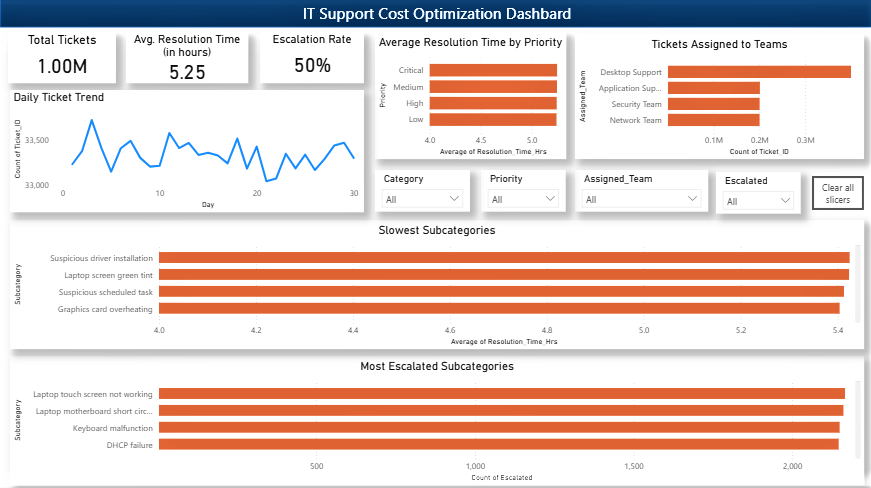

The page's visual inventory and layout, read from the dashboard file:
{"tool":"powerbi","page":{"name":"Page 1","canvas":[1280,720],"ordinal":0},"visuals":[{"type":"card","title":"Total Number Of Tickets","fields":{"Values":["CountNonNull(helpdesk.Ticket_ID)"]},"box":[0,43.3,160,73.3],"z":0},{"type":"card","fields":{"Values":["Avg(helpdesk.Resolution_Time_Hrs)"]},"box":[160,43.3,223.3,73.3],"z":1000},{"type":"card","fields":{"Values":["helpdesk.Escalation Rate"]},"box":[383.3,43.3,180,73.3],"z":2000},{"type":"clusteredColumnChart","title":"Average Resolution Time by Priority","fields":{"Category":["helpdesk.Priority"],"Y":["Avg(helpdesk.Resolution_Time_Hrs)"]},"box":[967.7,53.8,293.8,212.3],"z":3000},{"type":"clusteredBarChart","title":"Most Escalated Subcategories","fields":{"Category":["helpdesk.Subcategory"],"Y":["CountNonNull(helpdesk.Escalated)"]},"box":[14.3,515.7,862.9,188.6],"z":4000},{"type":"clusteredBarChart","title":"Tickets Assigned to Teams","fields":{"Category":["helpdesk.Assigned_Team"],"Y":["CountNonNull(helpdesk.Ticket_ID)"]},"box":[876.9,287.7,384.6,227.7],"z":5000},{"type":"donutChart","title":"Priority Distribution","fields":{"Category":["helpdesk.Priority"],"Y":["CountNonNull(helpdesk.Ticket_ID)"]},"box":[893.8,535.4,367.7,169.2],"z":6000},{"type":"clusteredBarChart","title":"Slowest Subcategories","fields":{"Category":["helpdesk.Subcategory"],"Y":["Avg(helpdesk.Resolution_Time_Hrs)"]},"box":[14.3,311.4,861.4,184.3],"z":7000},{"type":"lineChart","title":"Daily Ticket Trend","fields":{"Y":["CountNonNull(helpdesk.Ticket_ID)"],"Category":["helpdesk.Date_Created"]},"box":[14.3,134.3,848.6,177.1],"z":8000},{"type":"slicer","fields":{"Values":["helpdesk.Assigned_Team"]},"box":[790.8,49.2,160,61.5],"z":9000},{"type":"slicer","fields":{"Values":["helpdesk.Priority"]},"box":[687.7,49.2,103.1,61.5],"z":10000},{"type":"slicer","fields":{"Values":["helpdesk.Category"]},"box":[563.1,53.8,124.6,61.5],"z":11000},{"type":"shape","title":"IT Support ","box":[0,0,1280,42.9],"z":12000}]}

Visuals, with their boxes in screenshot pixels (x1, y1, x2, y2), scaled from the page's 1280x720 canvas onto the 871x488 screenshot:
"Total Number Of Tickets" card: left=0, top=29, right=109, bottom=79
card - Avg(helpdesk.Resolution_Time_Hrs): left=109, top=29, right=261, bottom=79
card - helpdesk.Escalation Rate: left=261, top=29, right=383, bottom=79
"Average Resolution Time by Priority" clusteredColumnChart: left=658, top=36, right=858, bottom=180
"Most Escalated Subcategories" clusteredBarChart: left=10, top=350, right=597, bottom=477
"Tickets Assigned to Teams" clusteredBarChart: left=597, top=195, right=858, bottom=349
"Priority Distribution" donutChart: left=608, top=363, right=858, bottom=478
"Slowest Subcategories" clusteredBarChart: left=10, top=211, right=596, bottom=336
"Daily Ticket Trend" lineChart: left=10, top=91, right=587, bottom=211
slicer - helpdesk.Assigned_Team: left=538, top=33, right=647, bottom=75
slicer - helpdesk.Priority: left=468, top=33, right=538, bottom=75
slicer - helpdesk.Category: left=383, top=36, right=468, bottom=78
"IT Support " shape: left=0, top=0, right=870, bottom=29
